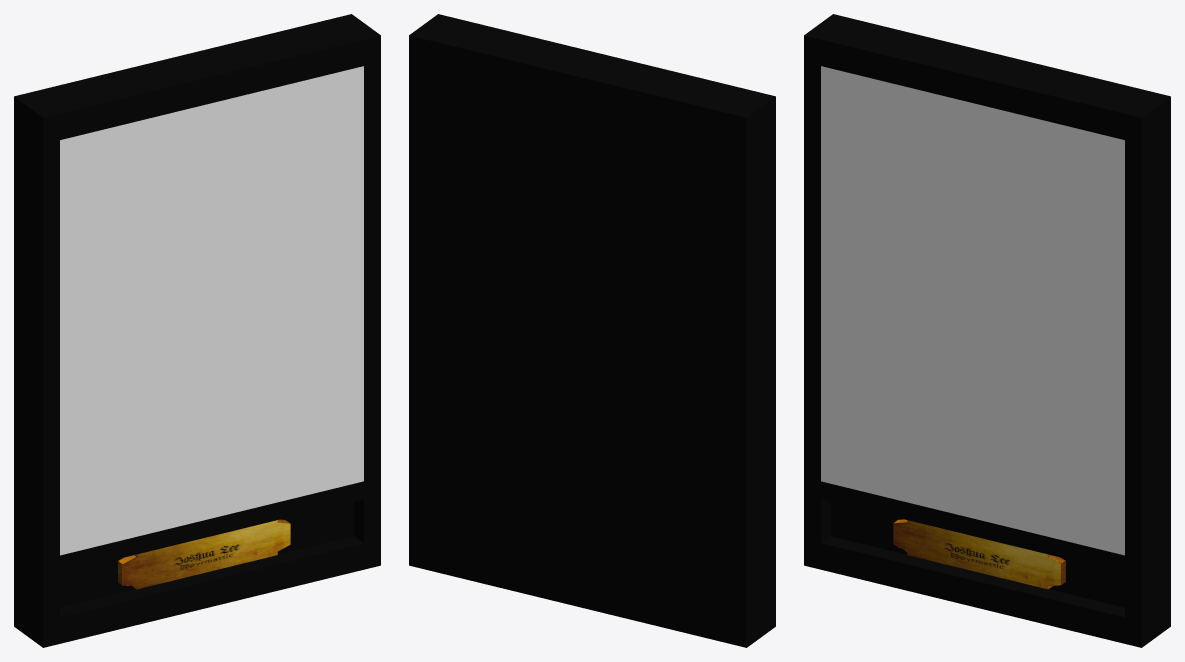
File: Picture Frame.fbx
The picture shows the model from 3 angles, left to right: view 1: azimuth 30°, elevation 25°; view 2: azimuth 150°, elevation 25°; view 3: azimuth 330°, elevation 25°; orthographic projection.
Parts seen in each view (by area): view 1: Glass, Frame, Name Plate, Border; view 2: Frame; view 3: Glass, Frame, Name Plate, Border.
Boxes of the visible parts, x1,y1,x2,y2 form: Glass: (60,66,363,555); Frame: (14,14,380,647); Name Plate: (118,519,290,589); Border: (60,481,363,572); Frame: (409,14,775,647); Glass: (821,66,1124,555); Frame: (804,14,1170,647); Name Plate: (893,519,1065,589); Border: (821,481,1124,572).
Bounding box in the file's own units: 200 × 300 × 30.
